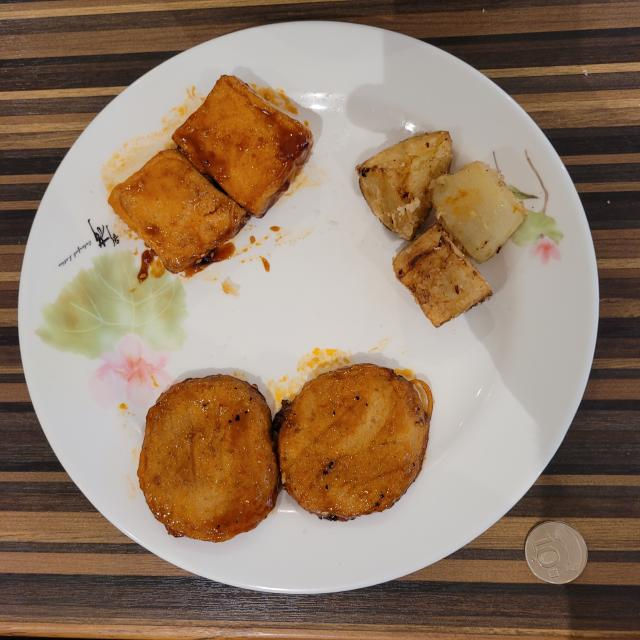coin: (525, 521, 588, 584)
creamy tofu: (109, 75, 314, 272)
fish cake: (138, 364, 432, 541)
fried potato: (356, 131, 528, 326)
